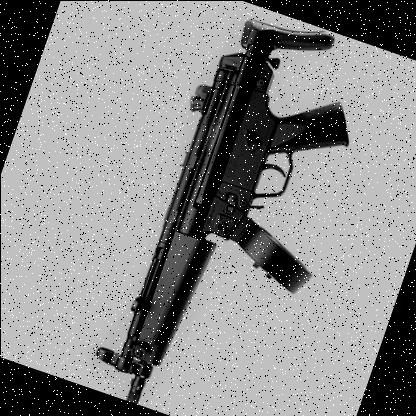rifle: (66, 0, 381, 416)
